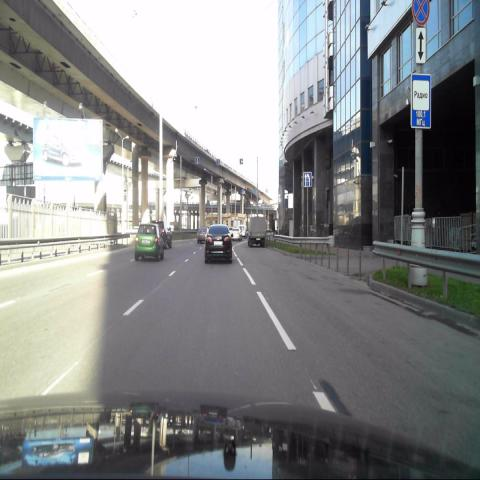3_27: (412, 0, 430, 26)
5_15_5: (303, 172, 312, 188)
7_15: (411, 72, 431, 129)
8_2_4: (415, 26, 426, 63)
